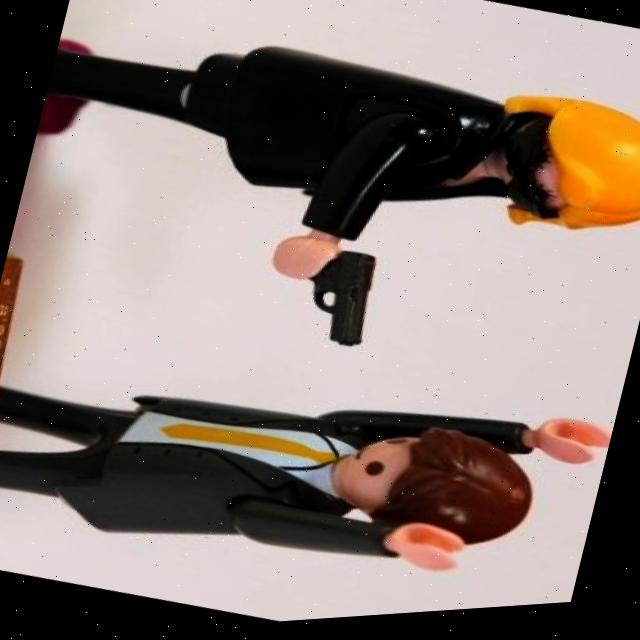pistol: (293, 244, 384, 357)
